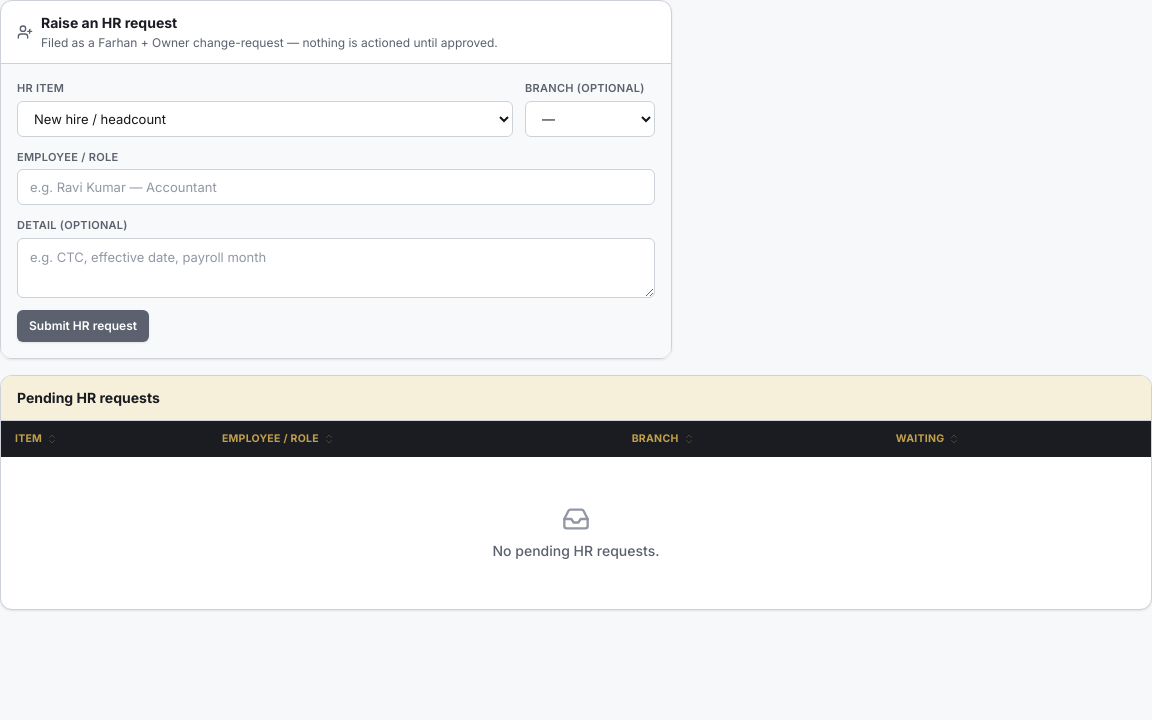
Scenario: HRControl container › files an hr governance change-request on submit
Step 1. Type "Ravi Kumar" into the field named "Subject" → (336, 187), box [17,169,655,205]
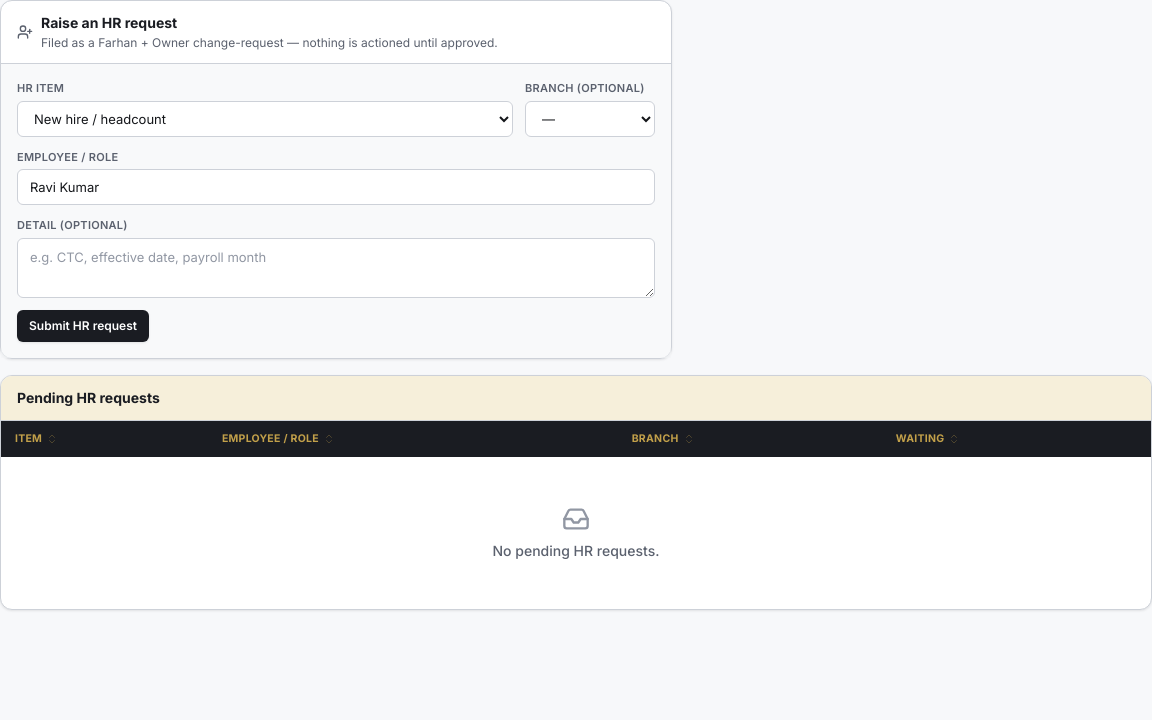
Step 2. Click the button "Submit HR request" → (83, 326), box [17,310,149,342]
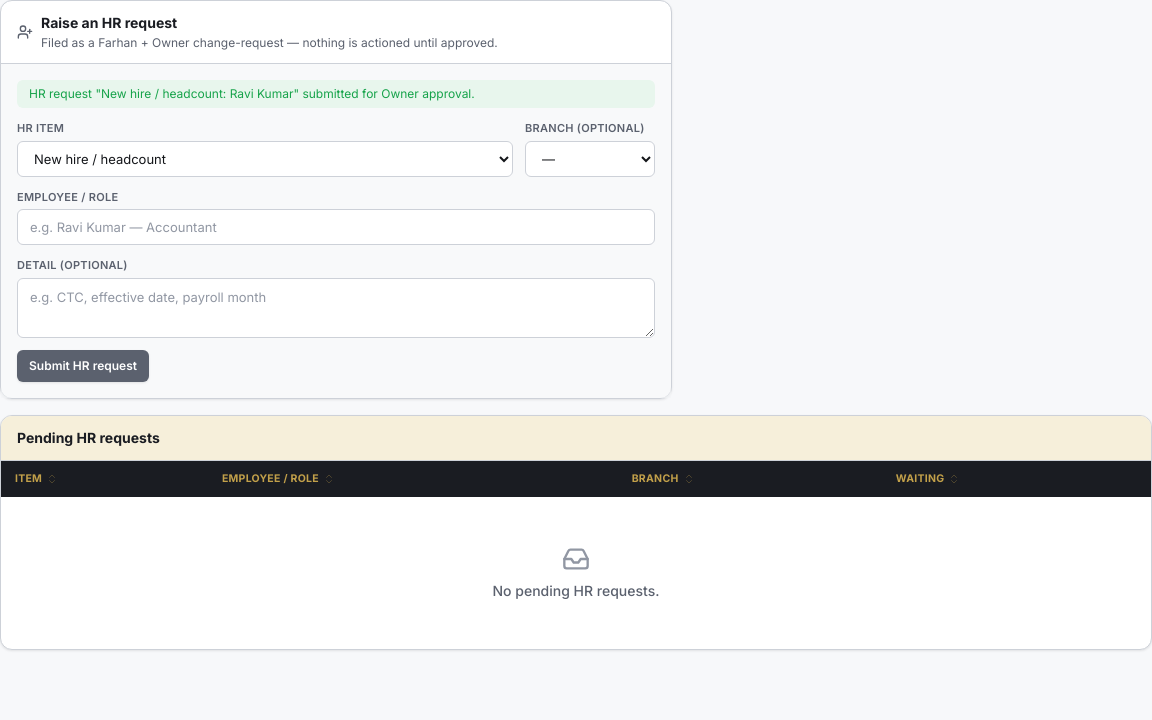
Result: the message shows "Owner approval" at [29,86,475,101]
